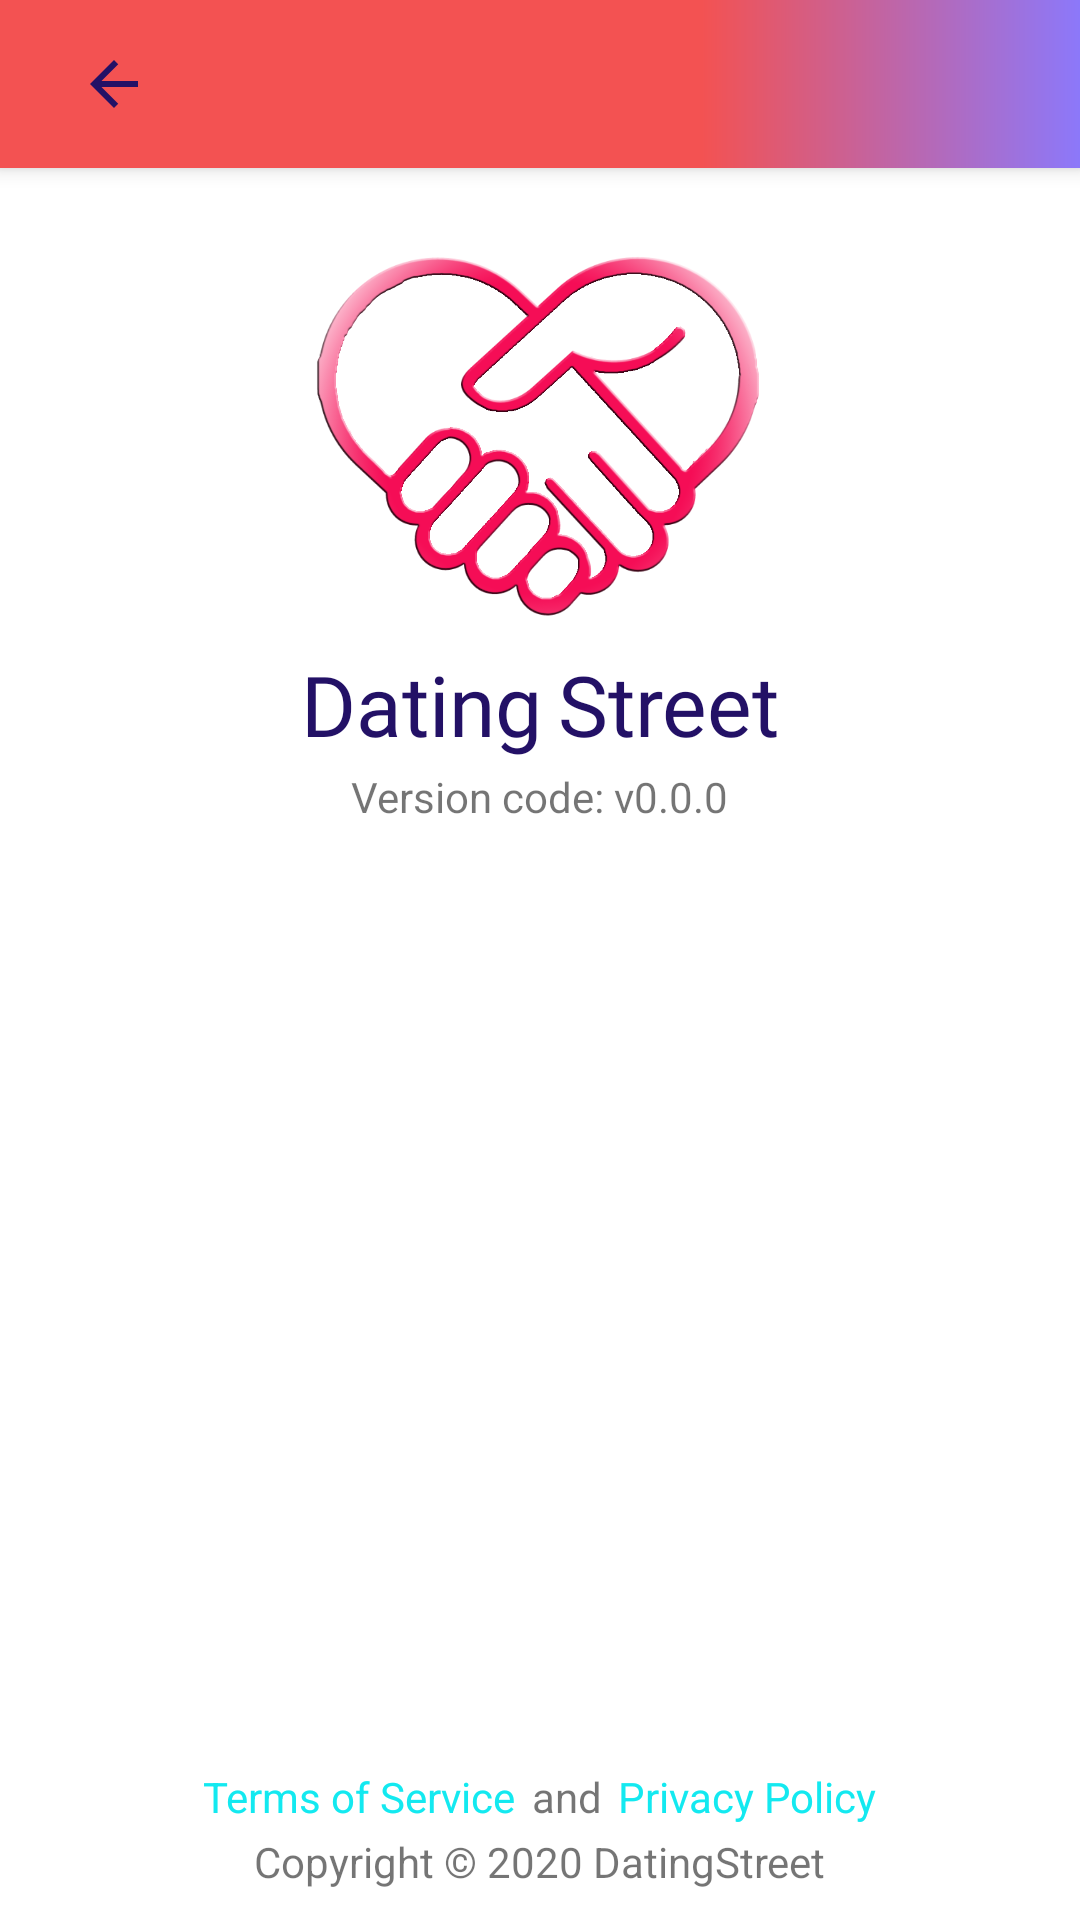

Icons on this 1080px×1920px Android screen, each with the point to tap as (x,y):
arrow back: (114,84)
